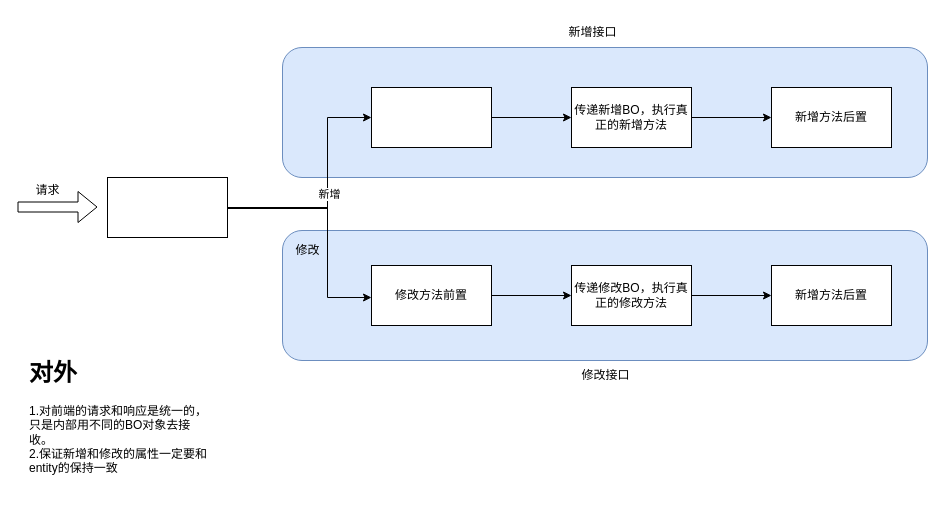
Image size: 945x517. Some labels were removed from this diagram. Each missing label, with the centre of its shape:
新增方法前置: (x=431, y=117)
统一的新增修改Req 制定不同组的校验规则: (x=167, y=207)
